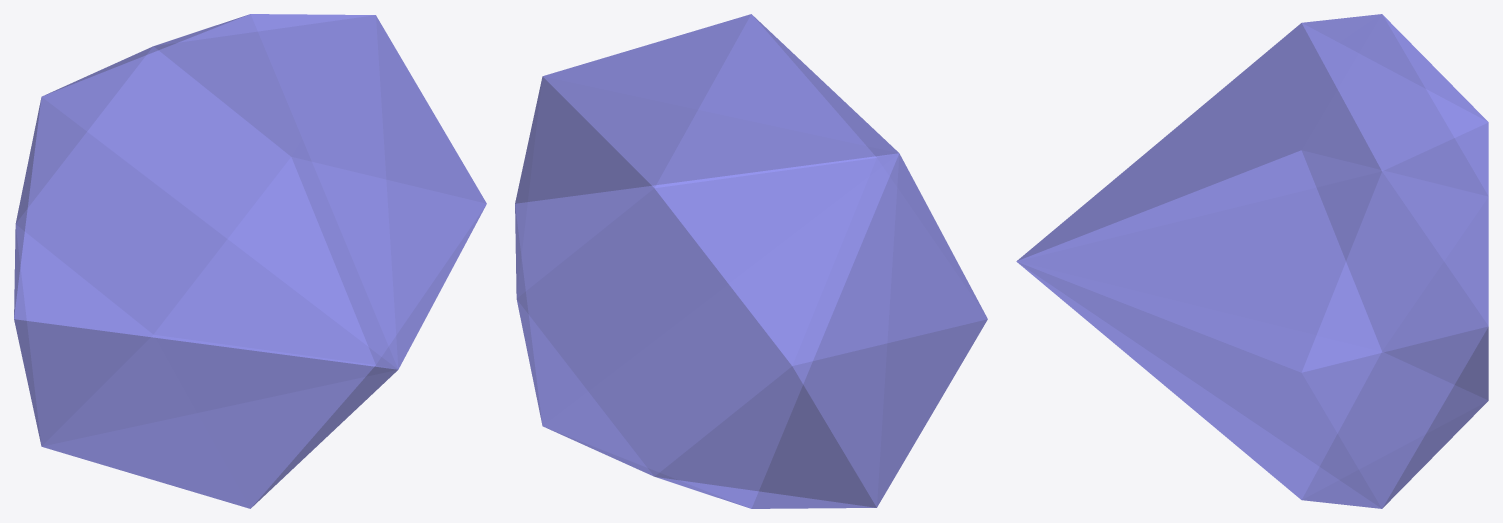
Rendered from SnubSquareAntiprism.obj.
3 renders of one model, left to right at view 1: azimuth 30°, elevation 25°; view 2: azimuth 150°, elevation 25°; view 3: azimuth 270°, elevation 25°, orthographic. The views are drawn at different scales.
Bounding box in the file's own units: 2.43 × 2.43 × 2.18.
